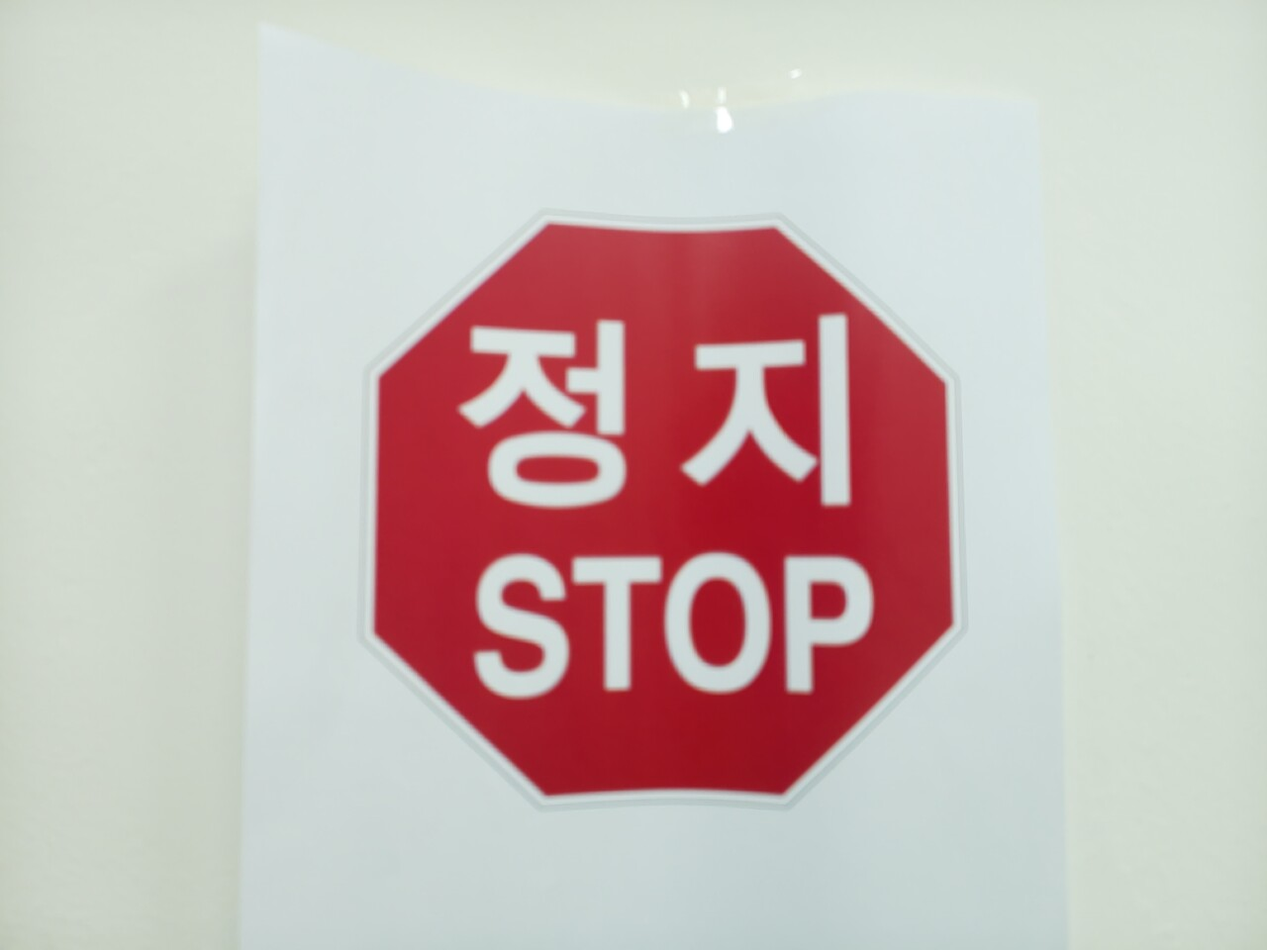stop: (359, 209, 968, 810)
